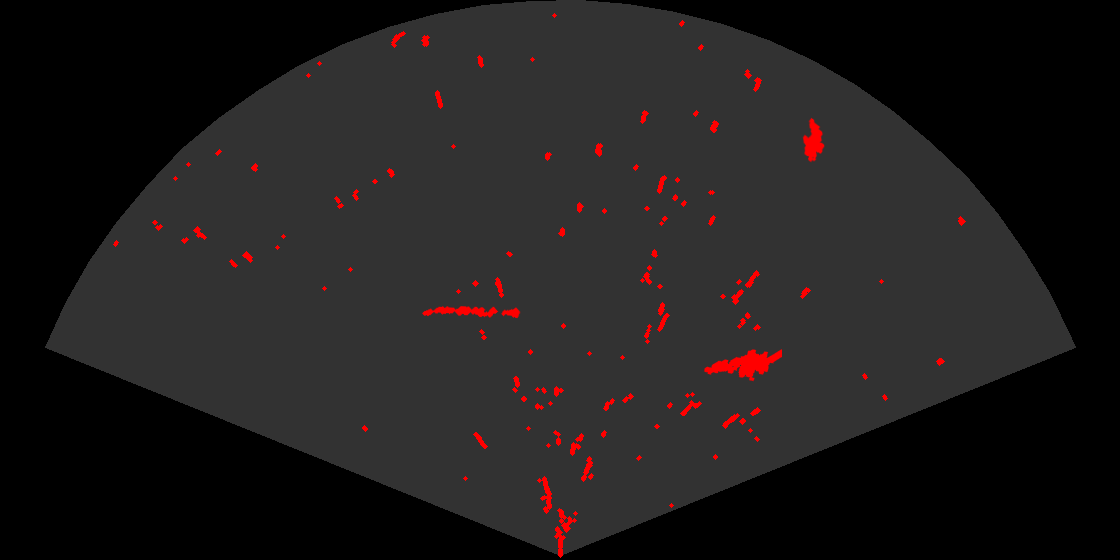AUV: (801, 116, 826, 164)
chain: (421, 304, 521, 320)
frogman: (703, 348, 782, 383)
